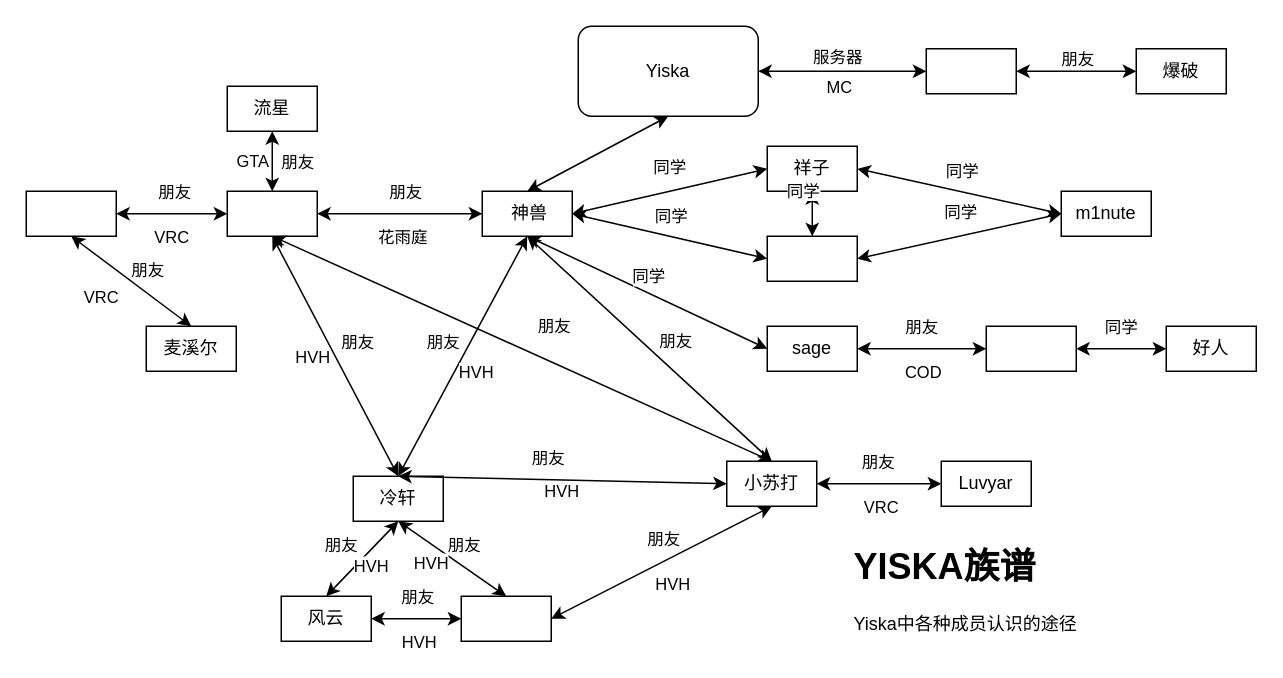
Some shapes in this 1283 by 678 pixel diagram are drawn without their labels. The centre of each missing label's shape, as x and y in pixels:
AWang: [1030,348]
Lordrin: [970,70]
白白: [271,213]
白白子: [70,213]
逸风: [505,618]
陈彬: [811,258]
